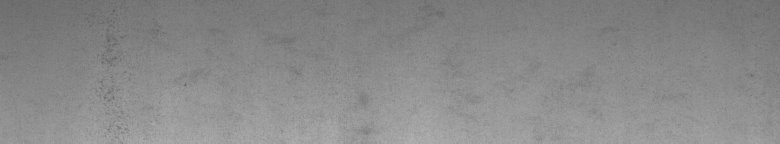ib: (100, 37, 187, 133)
